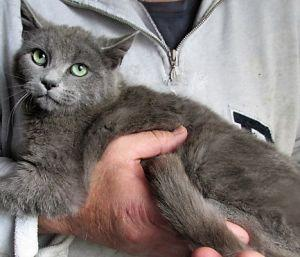rblue: (1, 1, 142, 136)
